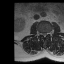CCS_normal: (44, 30, 45, 39)
LFS_stenosis: (47, 30, 49, 35)
LLS_normal: (45, 30, 47, 37)
RFS_stenosis: (40, 30, 42, 36)
RLS_normal: (42, 30, 44, 37)
